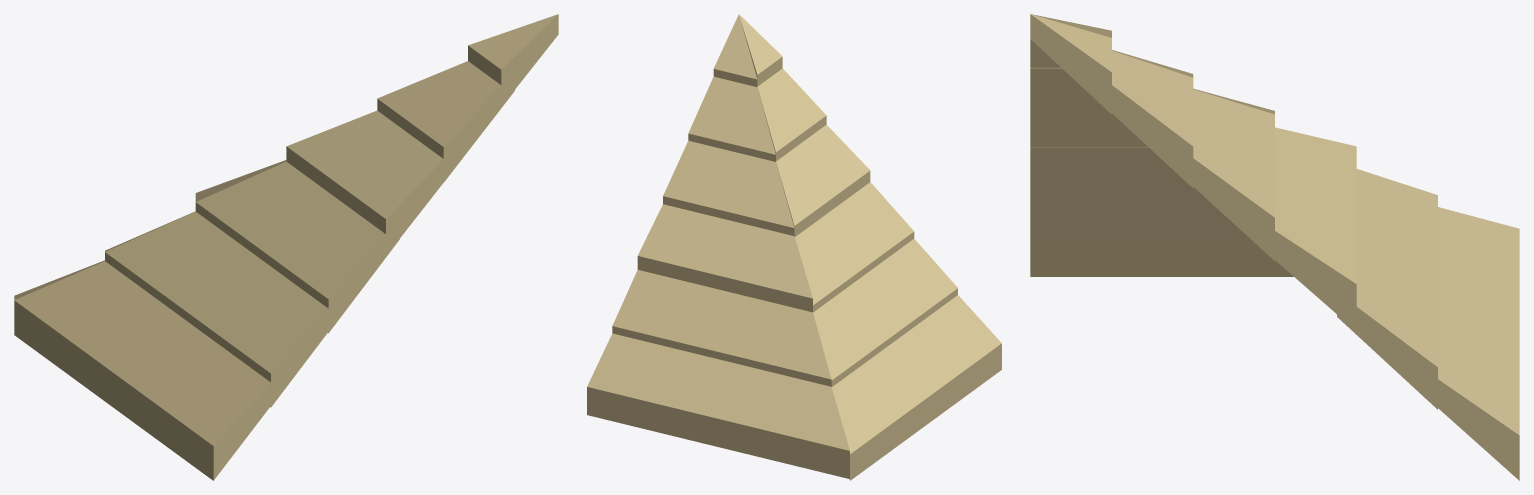
Rendered from thatch_roof_outer_steep.glb.
The picture shows the model from 3 angles, left to right: view 1: azimuth 30°, elevation 25°; view 2: azimuth 150°, elevation 25°; view 3: azimuth 270°, elevation 25°; orthographic projection. The views are drawn at different scales.
Visible parts, largest first — view 1: Roof; view 2: Roof; view 3: Roof.
Boxes of the visible parts, box(x1,y1,x2,y2) form: Roof: box(14, 14, 558, 480); Roof: box(587, 14, 1001, 480); Roof: box(1030, 14, 1519, 480).
Bounding box in the file's own units: 3 × 3.18 × 3.
